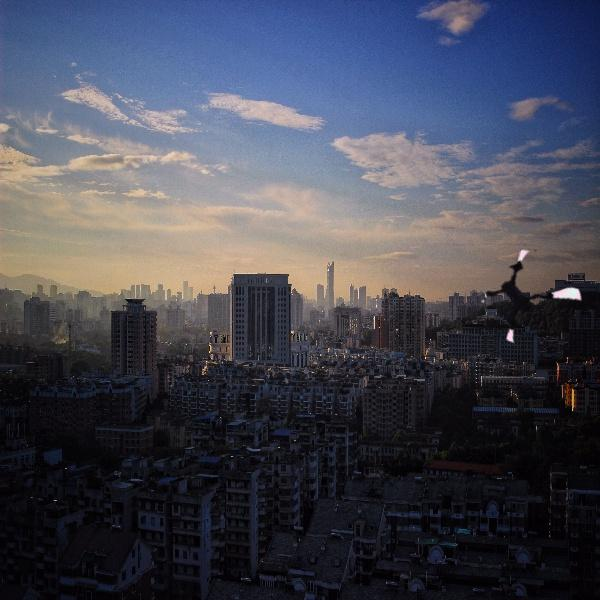drone: (478, 245, 587, 354)
